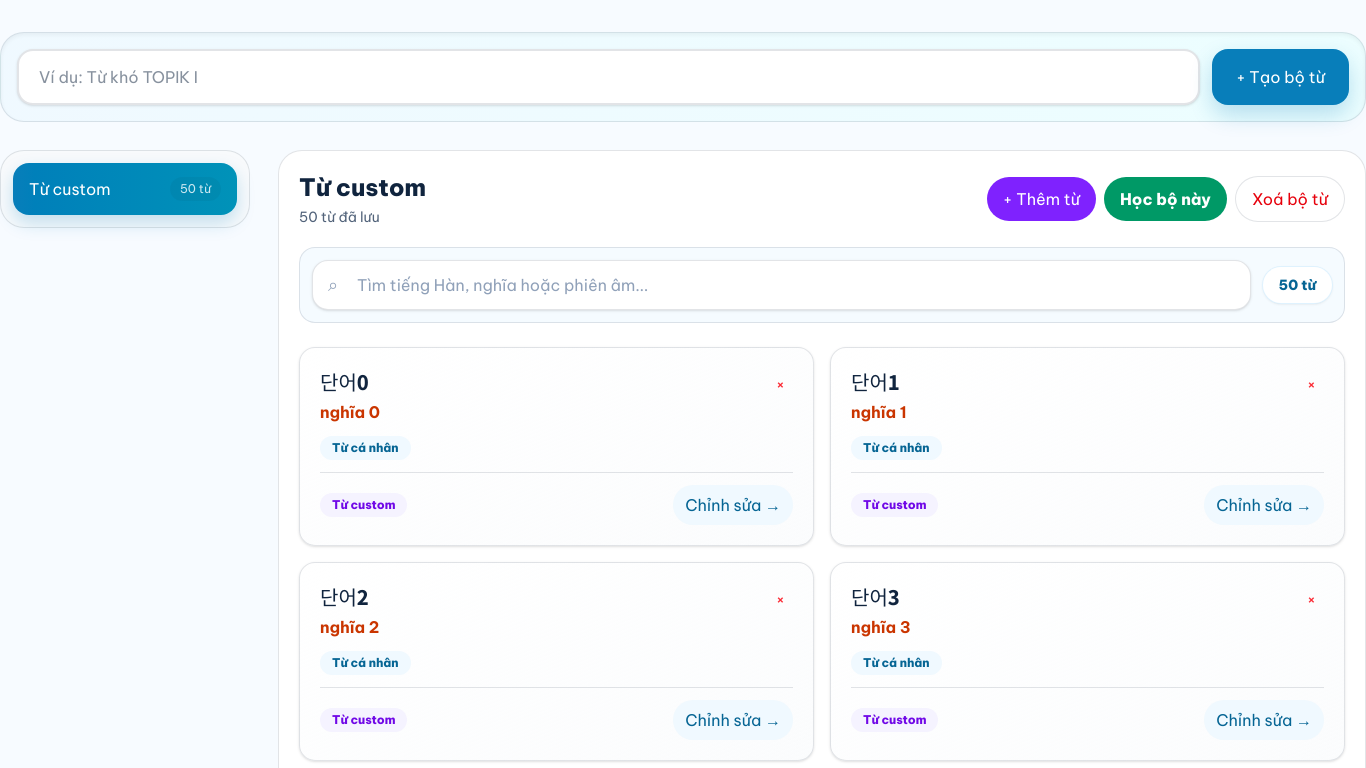
Scenario: VocabularyListsManager › khóa chức năng tạo khi tài khoản đã có 50 từ custom
Step 1. Click the button "+ Thêm từ" → (1041, 199), box [987,177,1096,221]
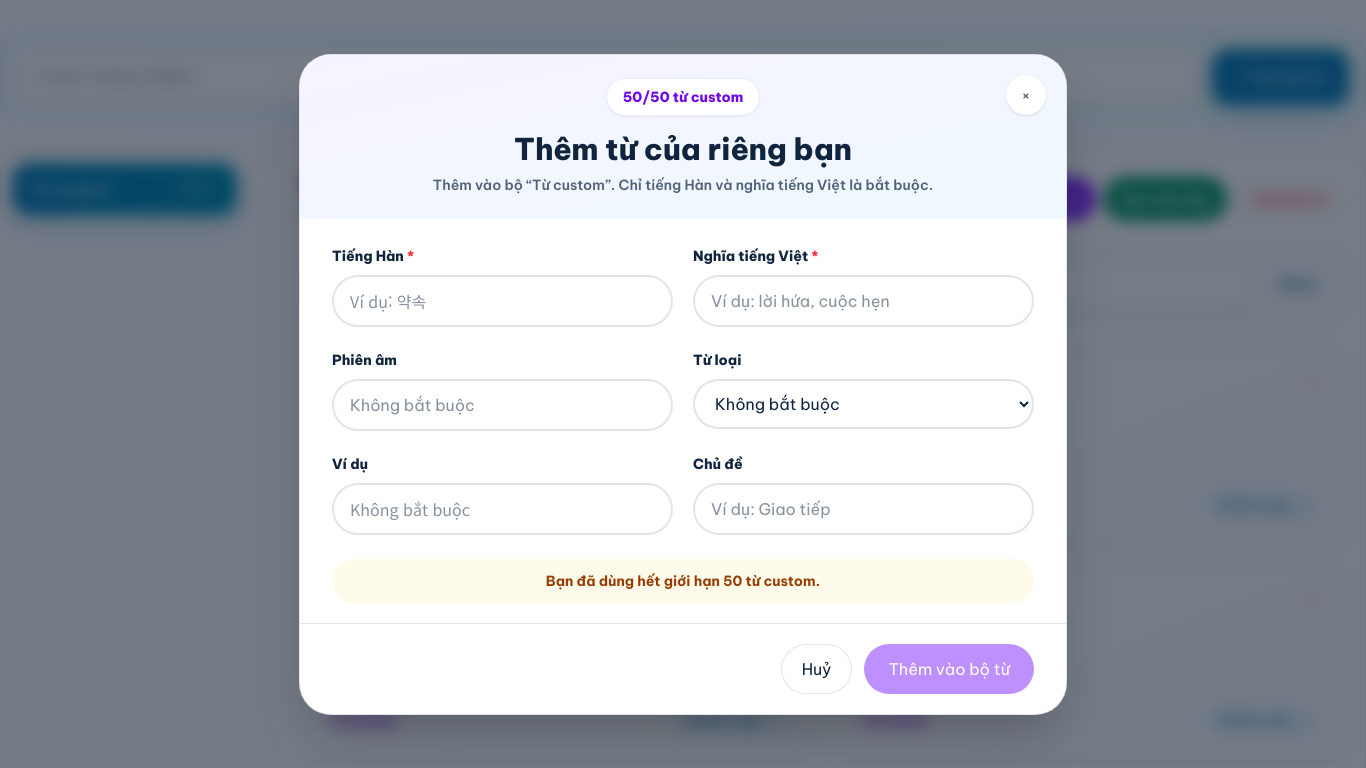
Check: the text "50/50 từ custom" is shown, box [607,78,759,114]
Check: the button "Thêm vào bộ từ" is disabled, box [864,644,1034,694]
